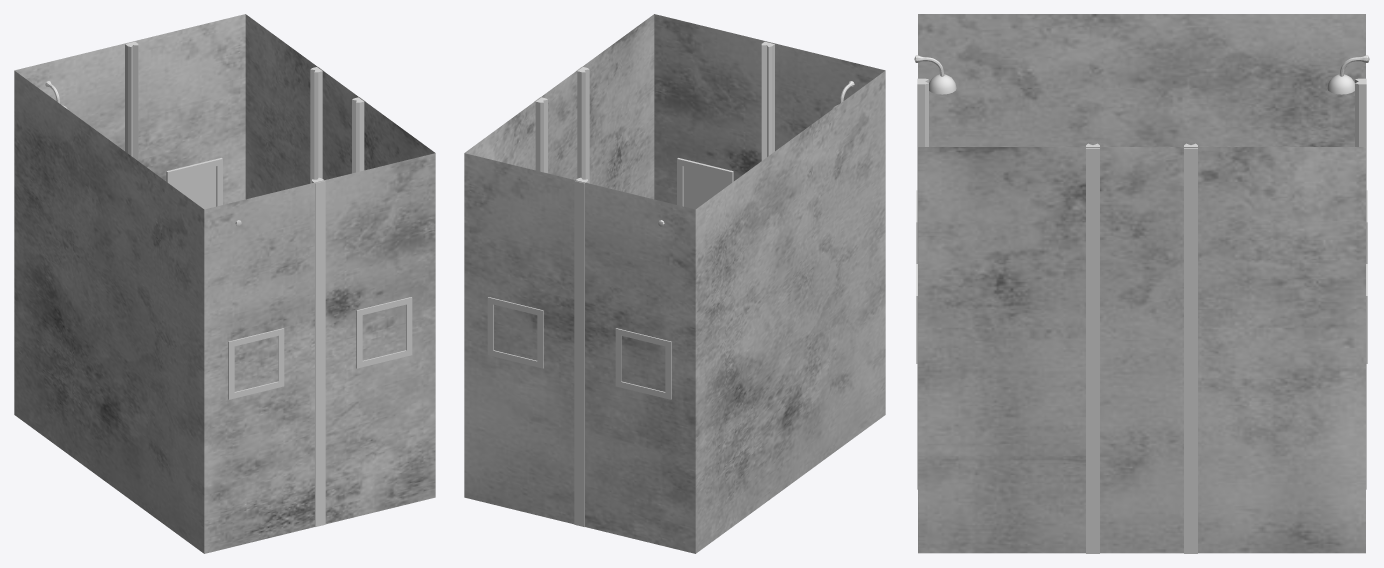
Rendered from LiftShahta.fbx.
3 renders of one model, left to right at view 1: azimuth 30°, elevation 25°; view 2: azimuth 150°, elevation 25°; view 3: azimuth 270°, elevation 25°, orthographic. The views are drawn at different scales.
Parts seen in each view (by area): view 1: Cube, Cube.003, Cube.002, Plane, Cube.001; view 2: Cube, Cube.003, Cube.002, Plane, Cube.001; view 3: Cube, Cube.003, Cube.001, Cube.002, Sphere, Plane.
Boxes of the visible parts, left/top/right/bottom form: Cube: left=14, top=14, right=435, bottom=553; Cube.003: left=14, top=70, right=204, bottom=553; Cube.002: left=125, top=41, right=325, bottom=526; Plane: left=166, top=158, right=412, bottom=399; Cube.001: left=310, top=67, right=365, bottom=183; Cube: left=464, top=14, right=885, bottom=553; Cube.003: left=695, top=70, right=885, bottom=553; Cube.002: left=574, top=41, right=774, bottom=526; Plane: left=487, top=158, right=733, bottom=399; Cube.001: left=534, top=67, right=589, bottom=183; Cube: left=918, top=147, right=1365, bottom=553; Cube.003: left=918, top=14, right=1365, bottom=146; Cube.001: left=1086, top=143, right=1197, bottom=553; Cube.002: left=917, top=78, right=1366, bottom=489; Sphere: left=914, top=55, right=1369, bottom=94; Plane: left=916, top=190, right=1367, bottom=363.
Bounding box in the file's own units: 3300 × 4672 × 4745.
